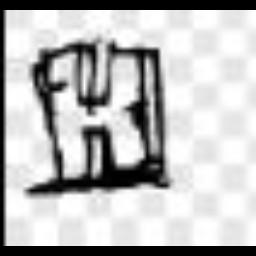h: (30, 26, 166, 186)
